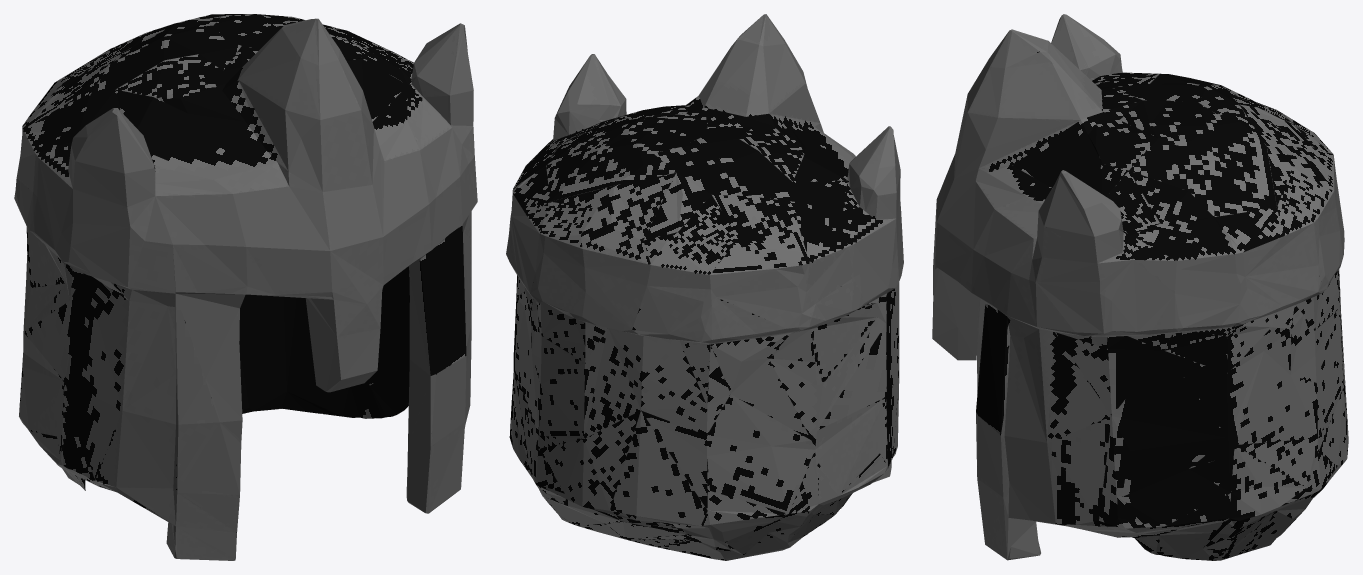
3 renders of one model, left to right at view 1: azimuth 30°, elevation 25°; view 2: azimuth 150°, elevation 25°; view 3: azimuth 270°, elevation 25°, orthographic. The views are drawn at different scales.
Parts seen in each view (by area): view 1: OBJ02e; view 2: OBJ02e; view 3: OBJ02e.
Boxes of the visible parts, bbox=[...] form: OBJ02e: bbox=[14, 14, 477, 560]; OBJ02e: bbox=[506, 14, 903, 560]; OBJ02e: bbox=[932, 14, 1348, 560].
Bounding box in the file's own units: 0.2004 × 0.2415 × 0.1924.
Materials: 1 (1 with a texture image).
